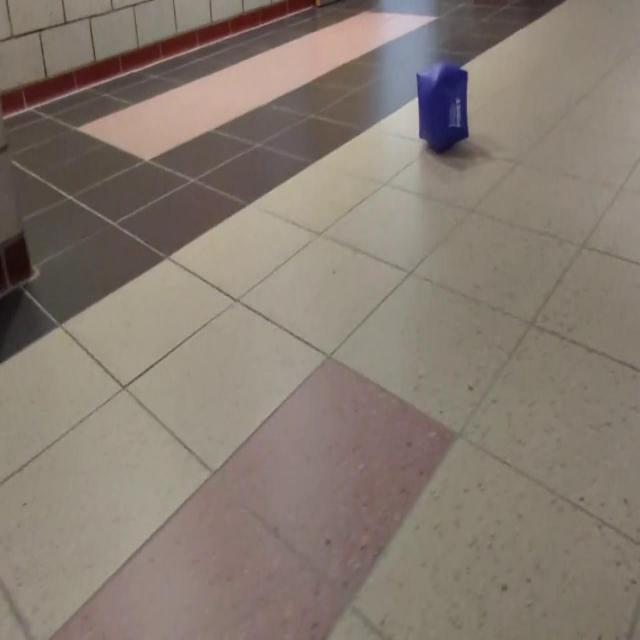frc_cube: (416, 63, 468, 154)
